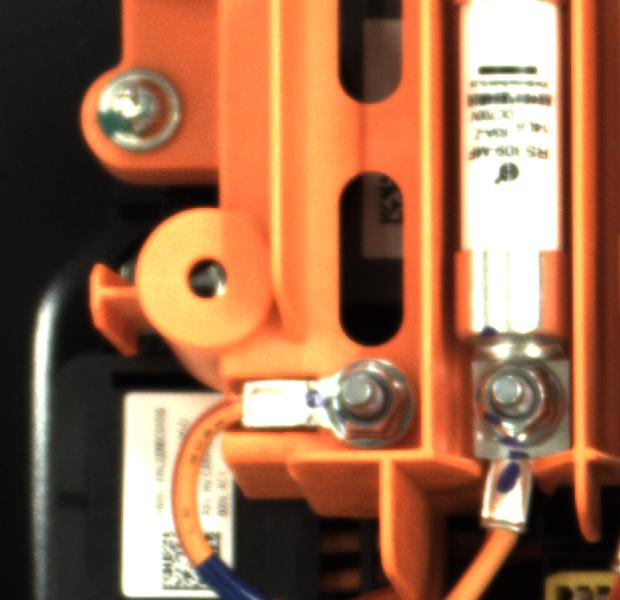screw_m: (84, 57, 198, 164)
screw_s: (466, 351, 571, 451), (317, 351, 415, 449)
